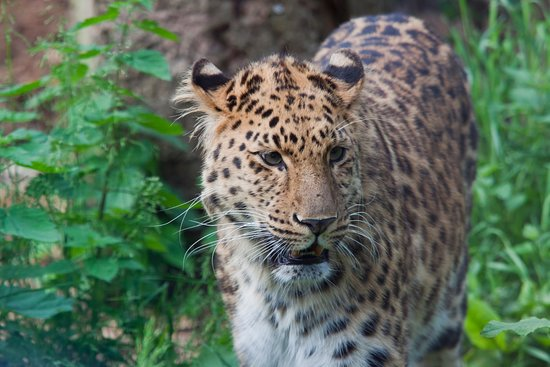amur_leopard: (175, 1, 503, 363)
